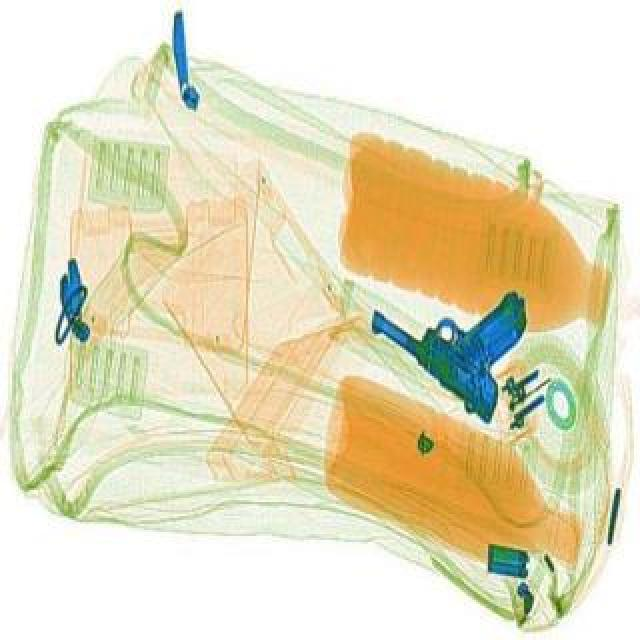gun: (364, 234, 576, 424)
